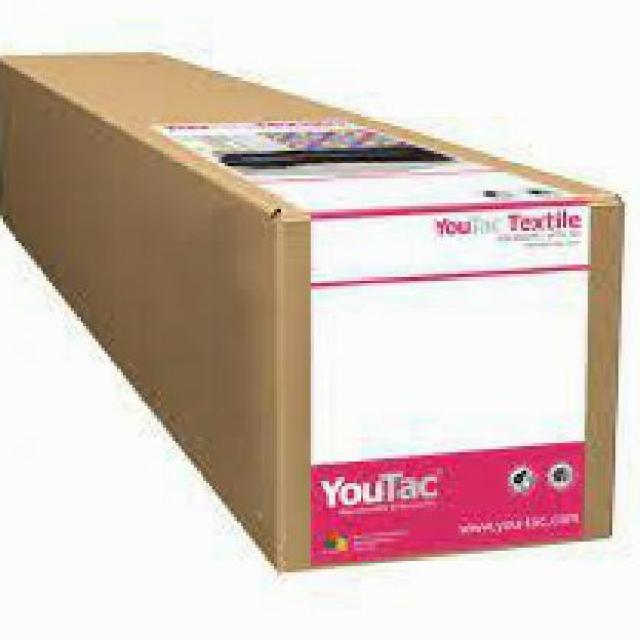box: (0, 43, 631, 588)
